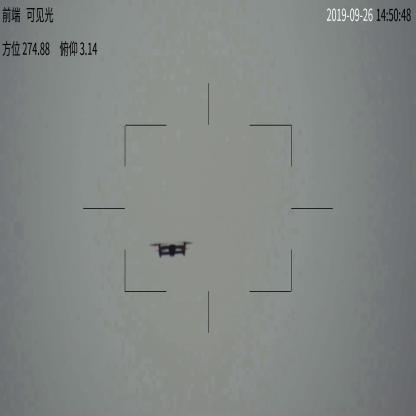uav: (152, 237, 193, 260)
